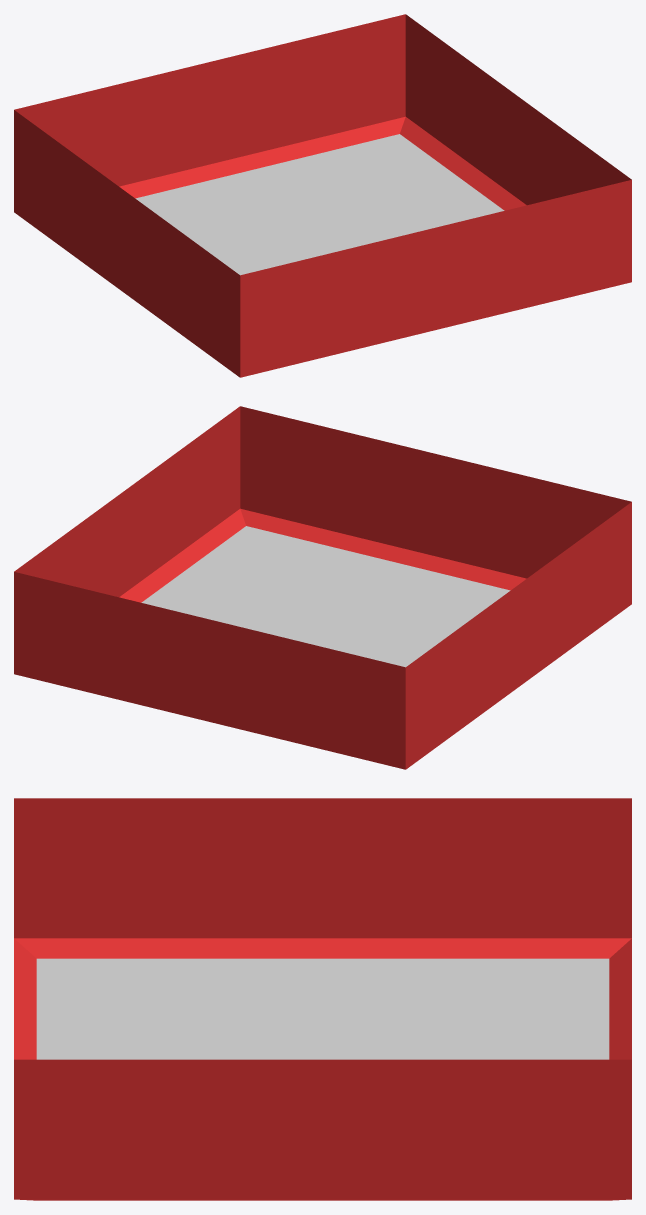
Rendered from light.FBX.
3 views of the same model, one above another, from view 1: azimuth 30°, elevation 25°; view 2: azimuth 150°, elevation 25°; view 3: azimuth 270°, elevation 25° (orthographic). The views are drawn at different scales.
Visible parts, largest first — view 1: Lightbox; view 2: Lightbox; view 3: Lightbox.
Boxes of the visible parts, bbox=[...] form: Lightbox: bbox=[14, 14, 631, 377]; Lightbox: bbox=[14, 406, 631, 769]; Lightbox: bbox=[14, 798, 631, 1200].
Bounding box in the file's own units: 10 × 2.69 × 10.
